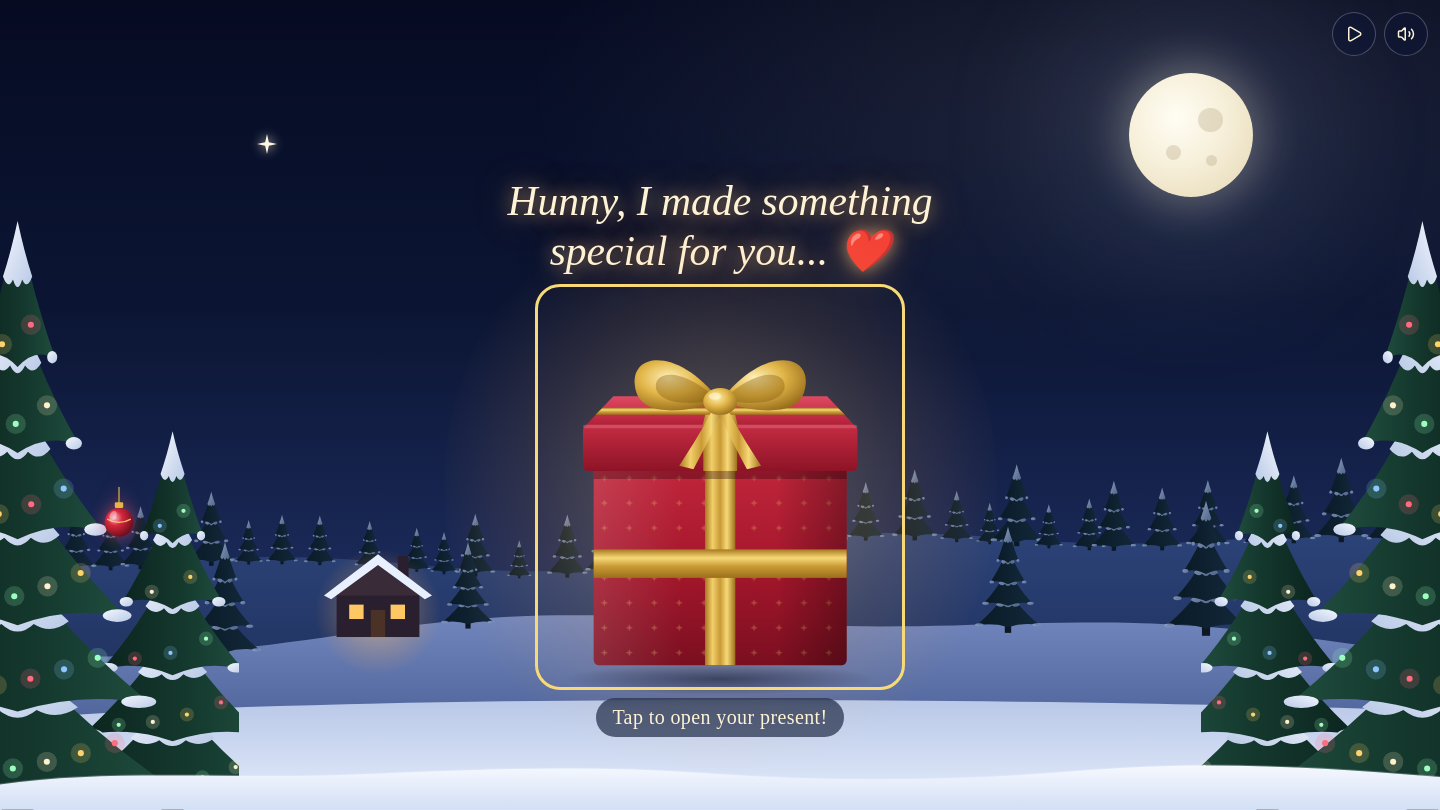
the Christmas surprise › opens the portal, shows the message and a working link, then redirects once
The width and height of the screenshot is (1440, 810).
Earlier steps of the test are not shown.
What coordinates should you click on to do the following:
click the button named "Open your present"
I would click on:
 (720, 487)
Its box is [542, 291, 898, 683].
Wait 900 ms
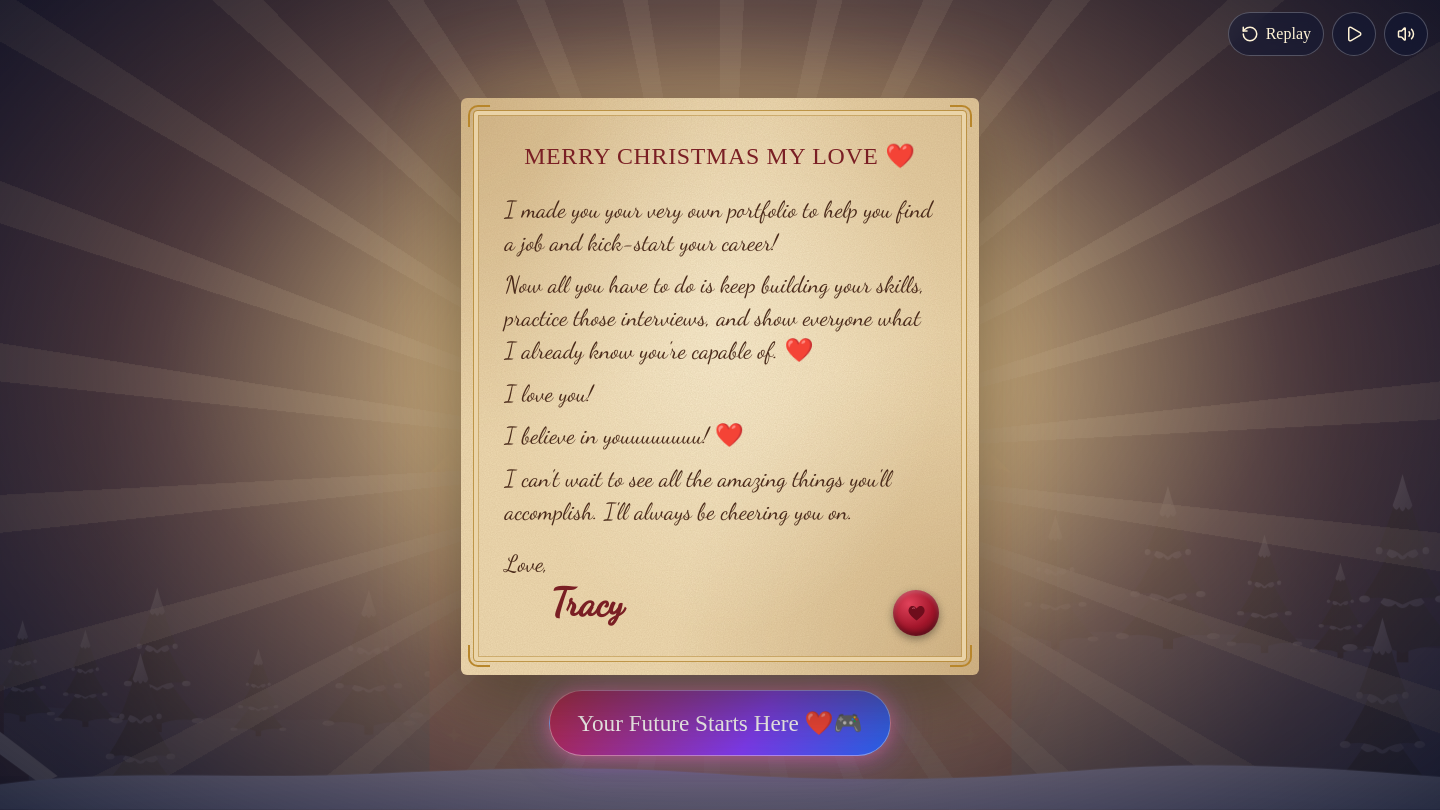
What coordinates should you click on to do the following:
click the button "Your Future Starts Here ❤️🎮"
I would click on:
 (720, 723)
Its box is [549, 690, 891, 756].
Wait 16950 ms
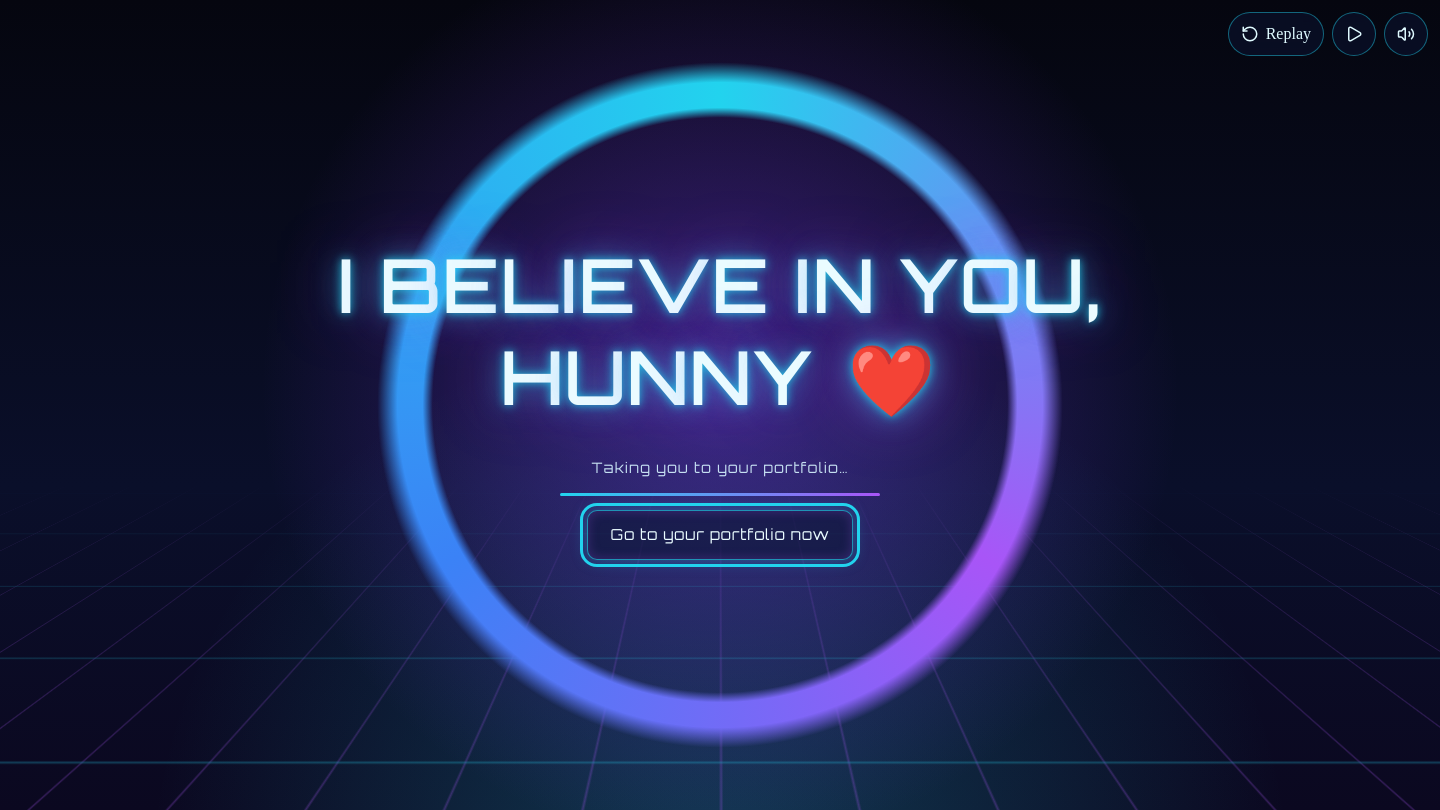
Check: the heading named "I BELIEVE IN YOU, HUNNY ❤️" is shown, box [337, 242, 1103, 424]
